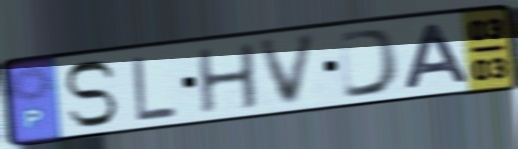A: (399, 21, 474, 92)
D: (336, 25, 404, 101)
H: (194, 40, 263, 116)
L: (130, 53, 180, 123)
S: (61, 58, 120, 130)
V: (255, 31, 322, 110)
